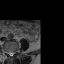CCS_stenosis: (10, 50, 12, 58)
LFS_normal: (14, 49, 16, 55)
LLS_normal: (12, 50, 14, 56)
RFS_normal: (6, 49, 8, 56)
RLS_normal: (8, 50, 10, 56)
